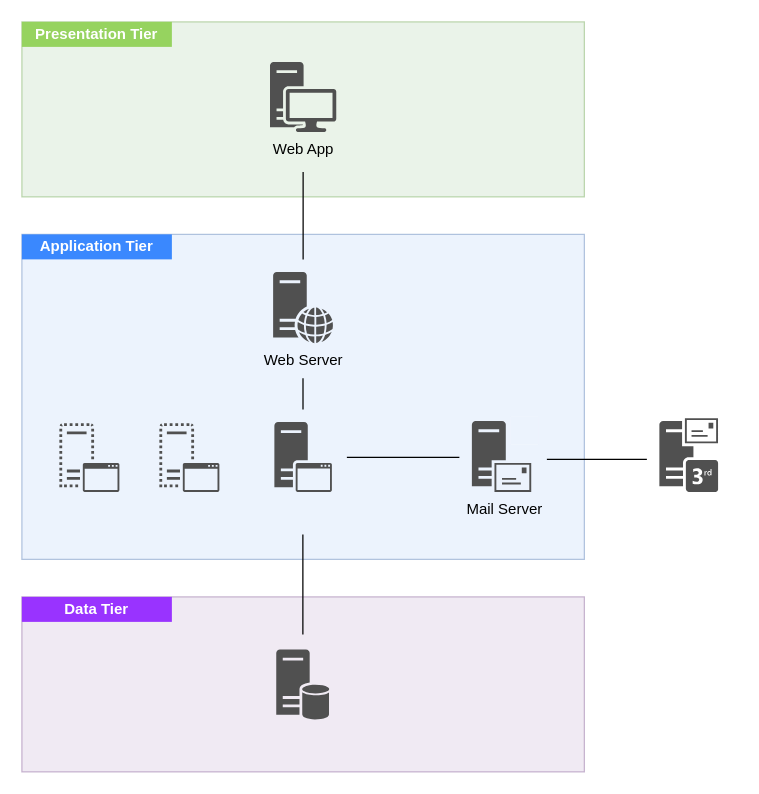
The diagram is 759 pixels wide and 794 high, and some of its shapes have lost their labels. The shapes that lost their labels are listed below. From the top down, each one's centre as x and y in pixels, then its label:
At (302,456): "Application Server".
At (688,454): "Email Provider".
At (302,684): "DBMS Server".
